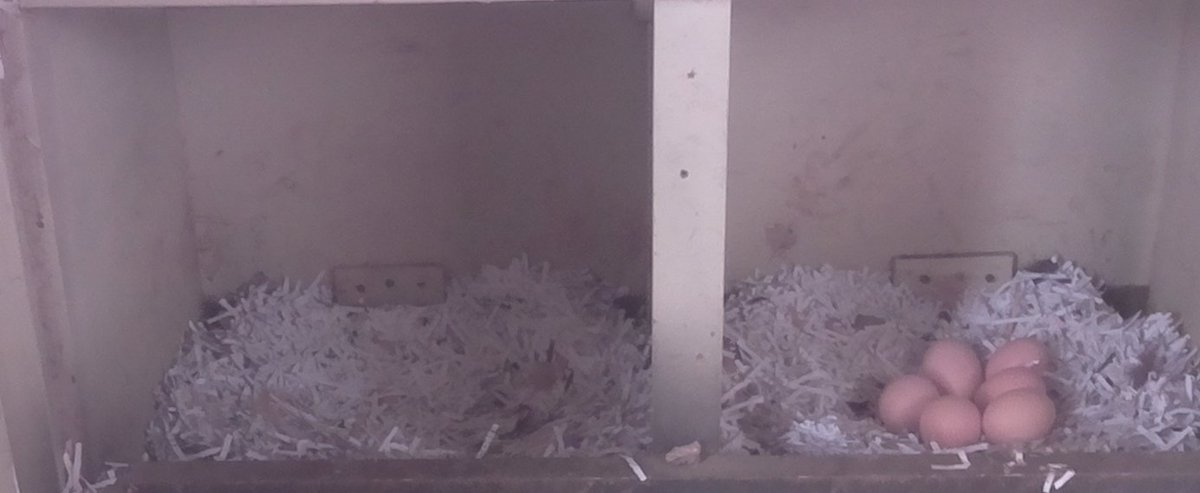egg: (980, 385, 1061, 452), (871, 370, 937, 436), (918, 333, 982, 399), (917, 390, 983, 452), (979, 334, 1059, 385), (976, 364, 1049, 403)
